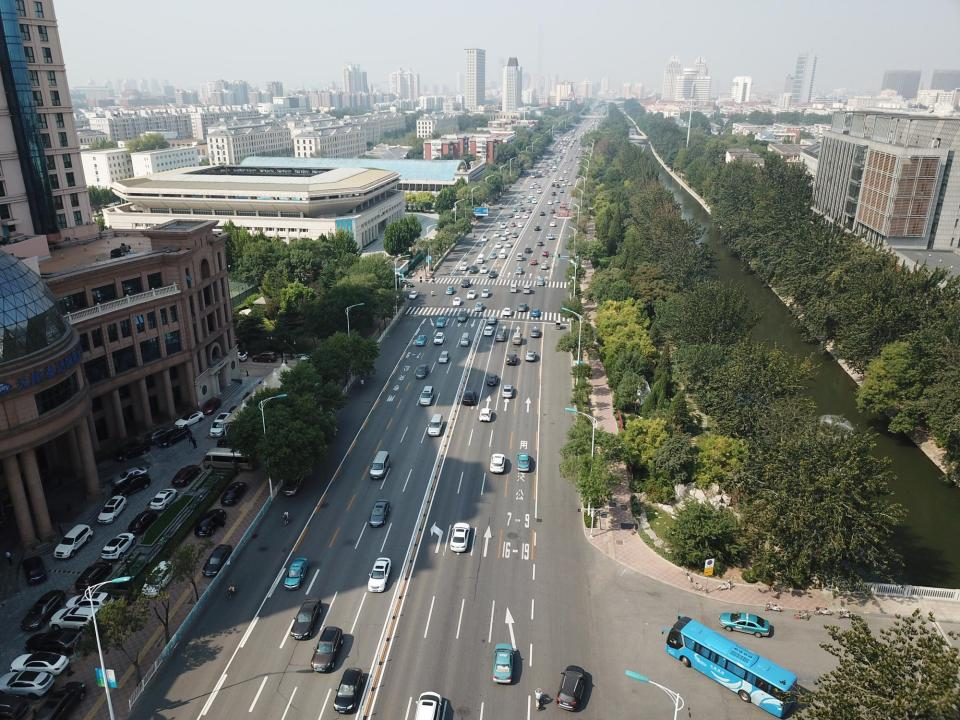bus: (662, 614, 797, 718), (202, 448, 256, 471), (559, 202, 567, 212), (530, 170, 536, 178), (549, 149, 553, 154)
car: (30, 681, 85, 720), (20, 590, 65, 632), (0, 672, 55, 700), (10, 652, 69, 677), (334, 667, 364, 714), (718, 611, 770, 638), (141, 560, 177, 598), (290, 598, 322, 640), (25, 631, 81, 655), (74, 561, 112, 591), (111, 474, 151, 499), (202, 544, 232, 576), (492, 643, 515, 684), (194, 509, 226, 536), (111, 466, 149, 487), (284, 557, 308, 590), (368, 558, 391, 592), (22, 556, 47, 584), (128, 511, 157, 534), (114, 443, 150, 461), (158, 427, 190, 447), (450, 522, 470, 552), (221, 482, 247, 505), (369, 499, 390, 527), (172, 465, 200, 486), (150, 489, 178, 509), (174, 411, 204, 429), (241, 388, 258, 405), (220, 352, 248, 362), (516, 453, 530, 471), (300, 353, 322, 363), (416, 365, 428, 378), (398, 280, 414, 288), (487, 374, 498, 385), (416, 334, 426, 346), (530, 328, 540, 337), (436, 317, 445, 327), (474, 302, 483, 312), (484, 326, 493, 335), (467, 290, 476, 299), (531, 309, 540, 317), (503, 308, 512, 316), (488, 315, 496, 324), (453, 297, 461, 306), (481, 289, 490, 297), (408, 291, 418, 298), (518, 303, 526, 311), (446, 286, 453, 295), (537, 278, 544, 286), (480, 266, 488, 273), (489, 271, 496, 278), (540, 263, 548, 269), (490, 252, 496, 259), (516, 267, 522, 274), (505, 242, 512, 248), (495, 242, 502, 248), (512, 232, 518, 238), (494, 231, 500, 237), (481, 236, 488, 241), (519, 207, 525, 212), (547, 200, 553, 205), (549, 234, 554, 240), (512, 207, 517, 212), (525, 248, 531, 252), (518, 223, 524, 227), (523, 214, 529, 218), (526, 209, 532, 213), (526, 198, 532, 202), (539, 211, 545, 215), (550, 222, 556, 226), (508, 213, 512, 218), (520, 194, 525, 198), (555, 198, 560, 202), (518, 201, 522, 205), (560, 189, 564, 193), (563, 170, 567, 174), (537, 169, 541, 173), (562, 182, 566, 186), (556, 184, 560, 188), (557, 158, 561, 162), (536, 185, 541, 188), (544, 172, 548, 175), (554, 160, 557, 164), (568, 182, 572, 185), (576, 161, 580, 164), (568, 167, 571, 170), (546, 174, 549, 177), (551, 162, 554, 165), (569, 158, 572, 161), (554, 154, 557, 157), (551, 184, 555, 186), (542, 168, 546, 170), (532, 182, 536, 184), (546, 170, 549, 172), (549, 166, 552, 168), (575, 155, 578, 157), (546, 164, 548, 166), (553, 153, 555, 155)
truck: (538, 170, 542, 176)
van: (311, 626, 343, 672), (49, 607, 100, 634), (53, 524, 93, 558), (556, 665, 584, 711), (65, 592, 114, 615), (101, 532, 136, 560), (410, 691, 441, 720), (97, 495, 127, 524), (370, 451, 389, 479), (283, 474, 305, 496), (210, 413, 231, 436), (256, 378, 284, 394), (144, 428, 170, 444), (228, 406, 253, 422), (428, 414, 443, 436), (202, 397, 220, 415), (420, 386, 434, 406), (490, 454, 505, 472), (252, 352, 277, 362), (462, 391, 477, 406), (479, 408, 492, 422), (502, 384, 514, 398), (438, 350, 450, 363), (460, 332, 470, 346), (506, 354, 517, 365), (525, 351, 536, 362), (434, 332, 444, 344), (512, 333, 522, 344), (457, 311, 467, 322), (496, 332, 506, 341), (461, 278, 470, 288), (460, 262, 468, 271), (510, 284, 518, 293), (470, 265, 478, 273), (523, 285, 531, 293), (477, 254, 484, 263), (499, 249, 506, 258), (516, 253, 523, 260), (530, 259, 538, 265), (542, 250, 549, 256), (501, 234, 507, 240), (514, 213, 520, 219), (500, 223, 507, 228), (504, 229, 511, 234), (537, 241, 543, 246), (552, 166, 557, 172), (550, 209, 555, 214), (558, 176, 564, 180), (534, 226, 540, 230), (511, 222, 515, 227), (532, 199, 536, 204), (553, 214, 558, 218), (529, 194, 533, 198), (537, 189, 541, 193), (530, 184, 534, 188), (548, 160, 552, 164), (551, 192, 556, 195), (553, 179, 557, 182), (564, 178, 567, 182), (553, 158, 556, 162), (564, 160, 567, 163), (560, 155, 562, 158), (556, 155, 558, 158)
